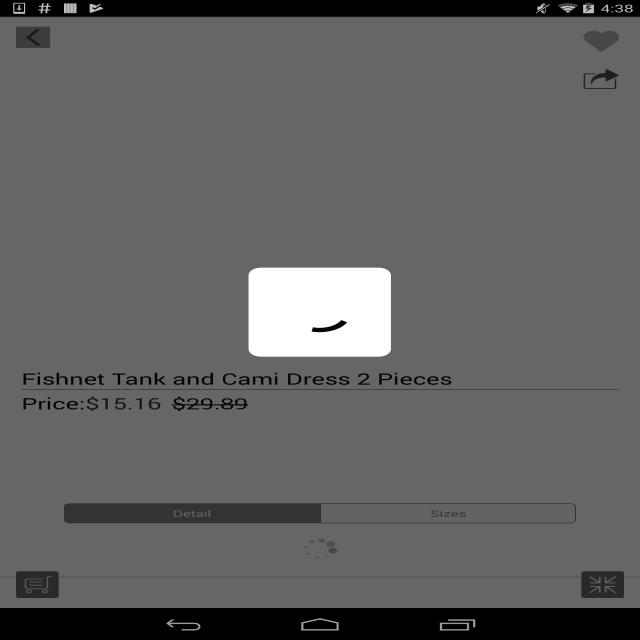Button: (64, 550, 576, 577)
ImageView: (0, 16, 640, 416), (579, 27, 624, 55), (579, 65, 624, 93), (16, 571, 59, 598), (581, 571, 624, 598), (16, 27, 50, 48), (22, 444, 44, 458)
RadioButton: (64, 590, 320, 610), (320, 590, 576, 610)
TextView: (21, 368, 619, 389), (44, 444, 404, 456), (21, 520, 98, 540), (85, 393, 161, 413), (172, 393, 248, 413), (21, 393, 86, 413), (21, 504, 121, 517), (21, 480, 83, 500), (21, 465, 112, 477)
